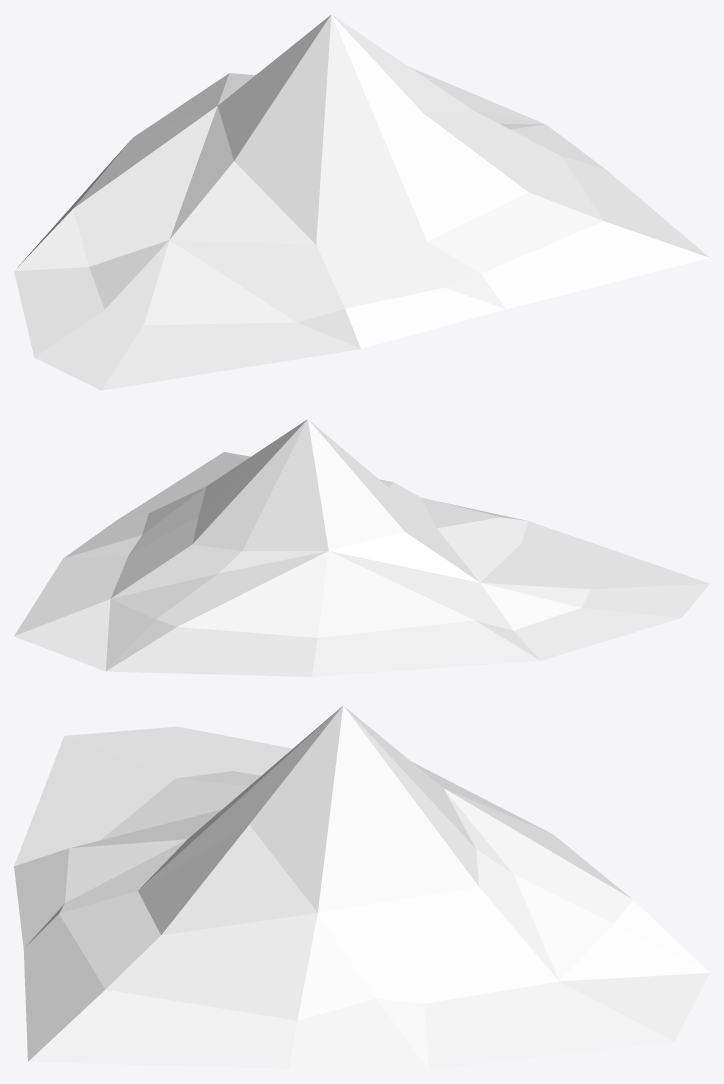
The model's file is SM_Env_SpiderWeb_06.fbx.
3 views of the same model, one above another, from view 1: azimuth 30°, elevation 25°; view 2: azimuth 150°, elevation 25°; view 3: azimuth 270°, elevation 25° (orthographic). The views are drawn at different scales.
Parts seen in each view (by area): view 1: SM_Env_SpiderWeb_06; view 2: SM_Env_SpiderWeb_06; view 3: SM_Env_SpiderWeb_06.
Part boxes in pixels (x1,y1,x2,y2): SM_Env_SpiderWeb_06: (14,14,709,390); SM_Env_SpiderWeb_06: (14,419,709,676); SM_Env_SpiderWeb_06: (14,705,709,1069).
Bounding box in the file's own units: 168 × 51.28 × 144.
